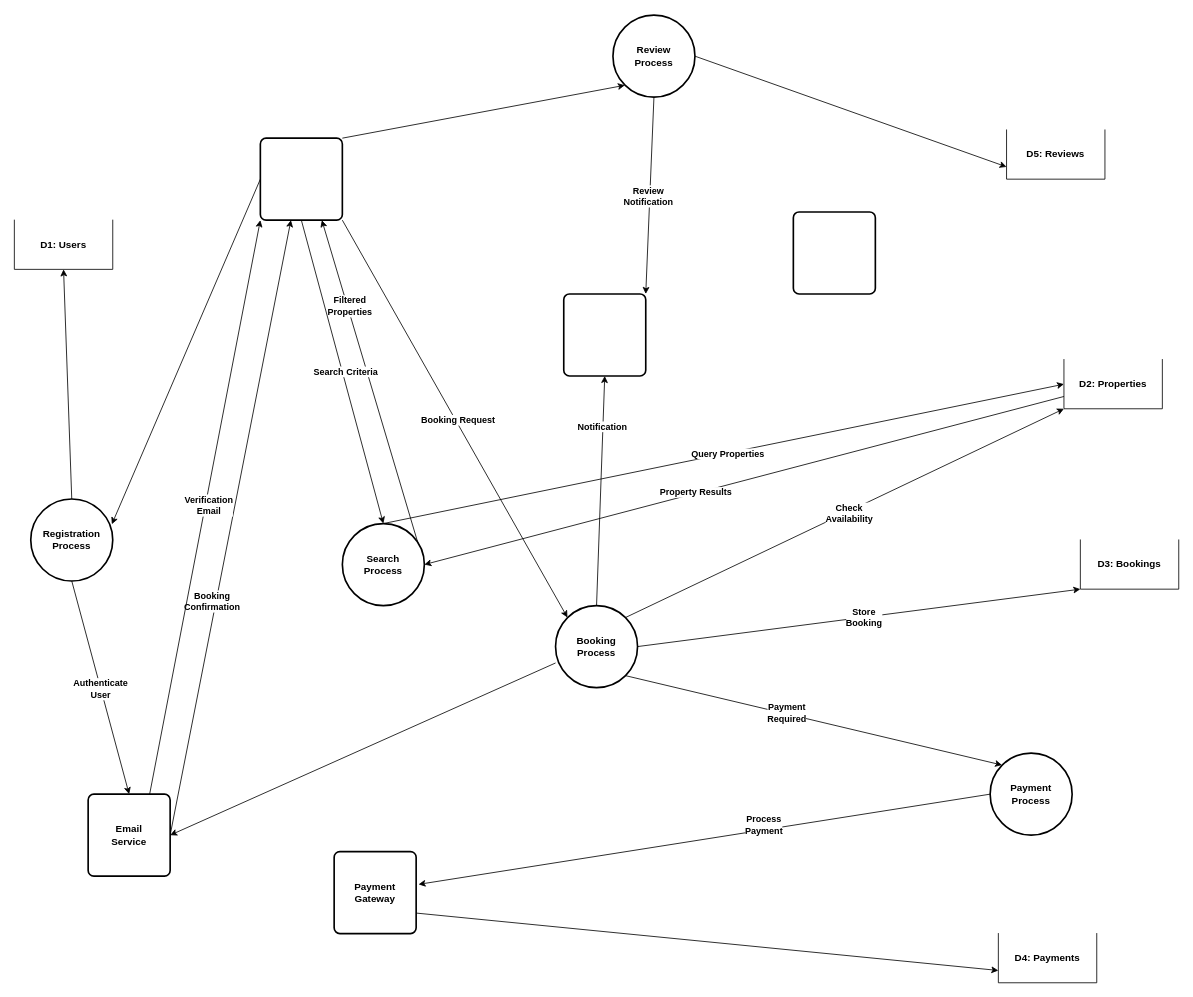
Some shapes in this 1193 by 997 pixel diagram are drawn without their labels. Each missing label, with the box of its shape:
Admin: (792, 211, 876, 294)
Guest: (259, 137, 343, 221)
Host: (563, 293, 646, 376)
